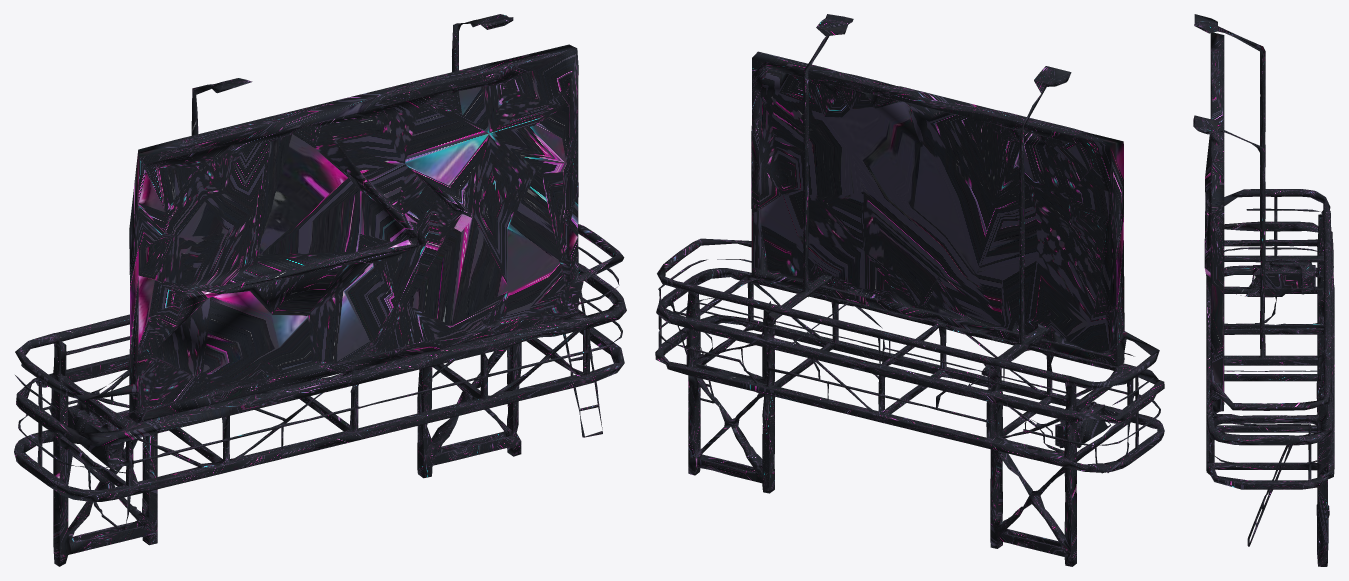
Rendered from bsSign.d8433f18.glb.
3 renders of one model, left to right at view 1: azimuth 30°, elevation 25°; view 2: azimuth 150°, elevation 25°; view 3: azimuth 270°, elevation 25°, orthographic. The views are drawn at different scales.
Bounding box in the file's own units: 1.9 × 1.66 × 0.5215.
Materials: 1 (1 with a texture image).
